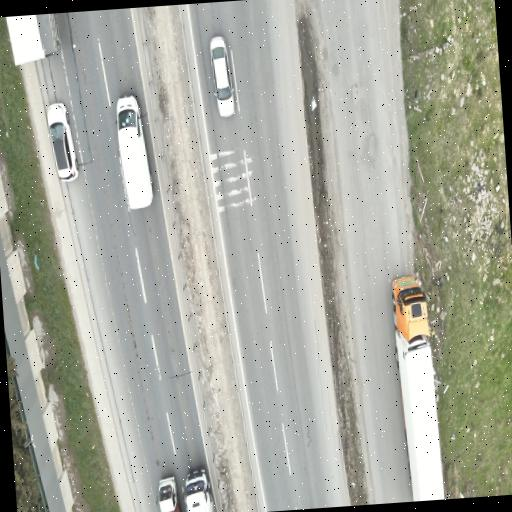car: (116, 95, 153, 208), (47, 102, 79, 180), (210, 36, 235, 116)
truck: (392, 276, 443, 501), (7, 13, 59, 64), (185, 469, 216, 511), (156, 476, 186, 512)
